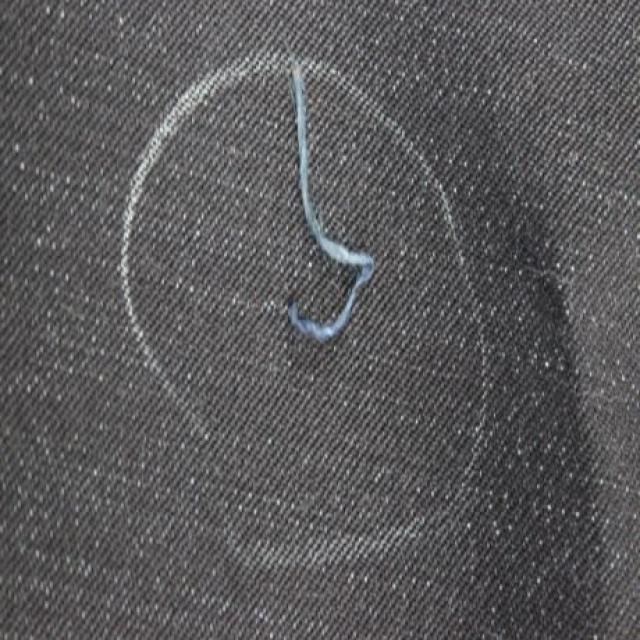stains: (212, 42, 431, 388)
